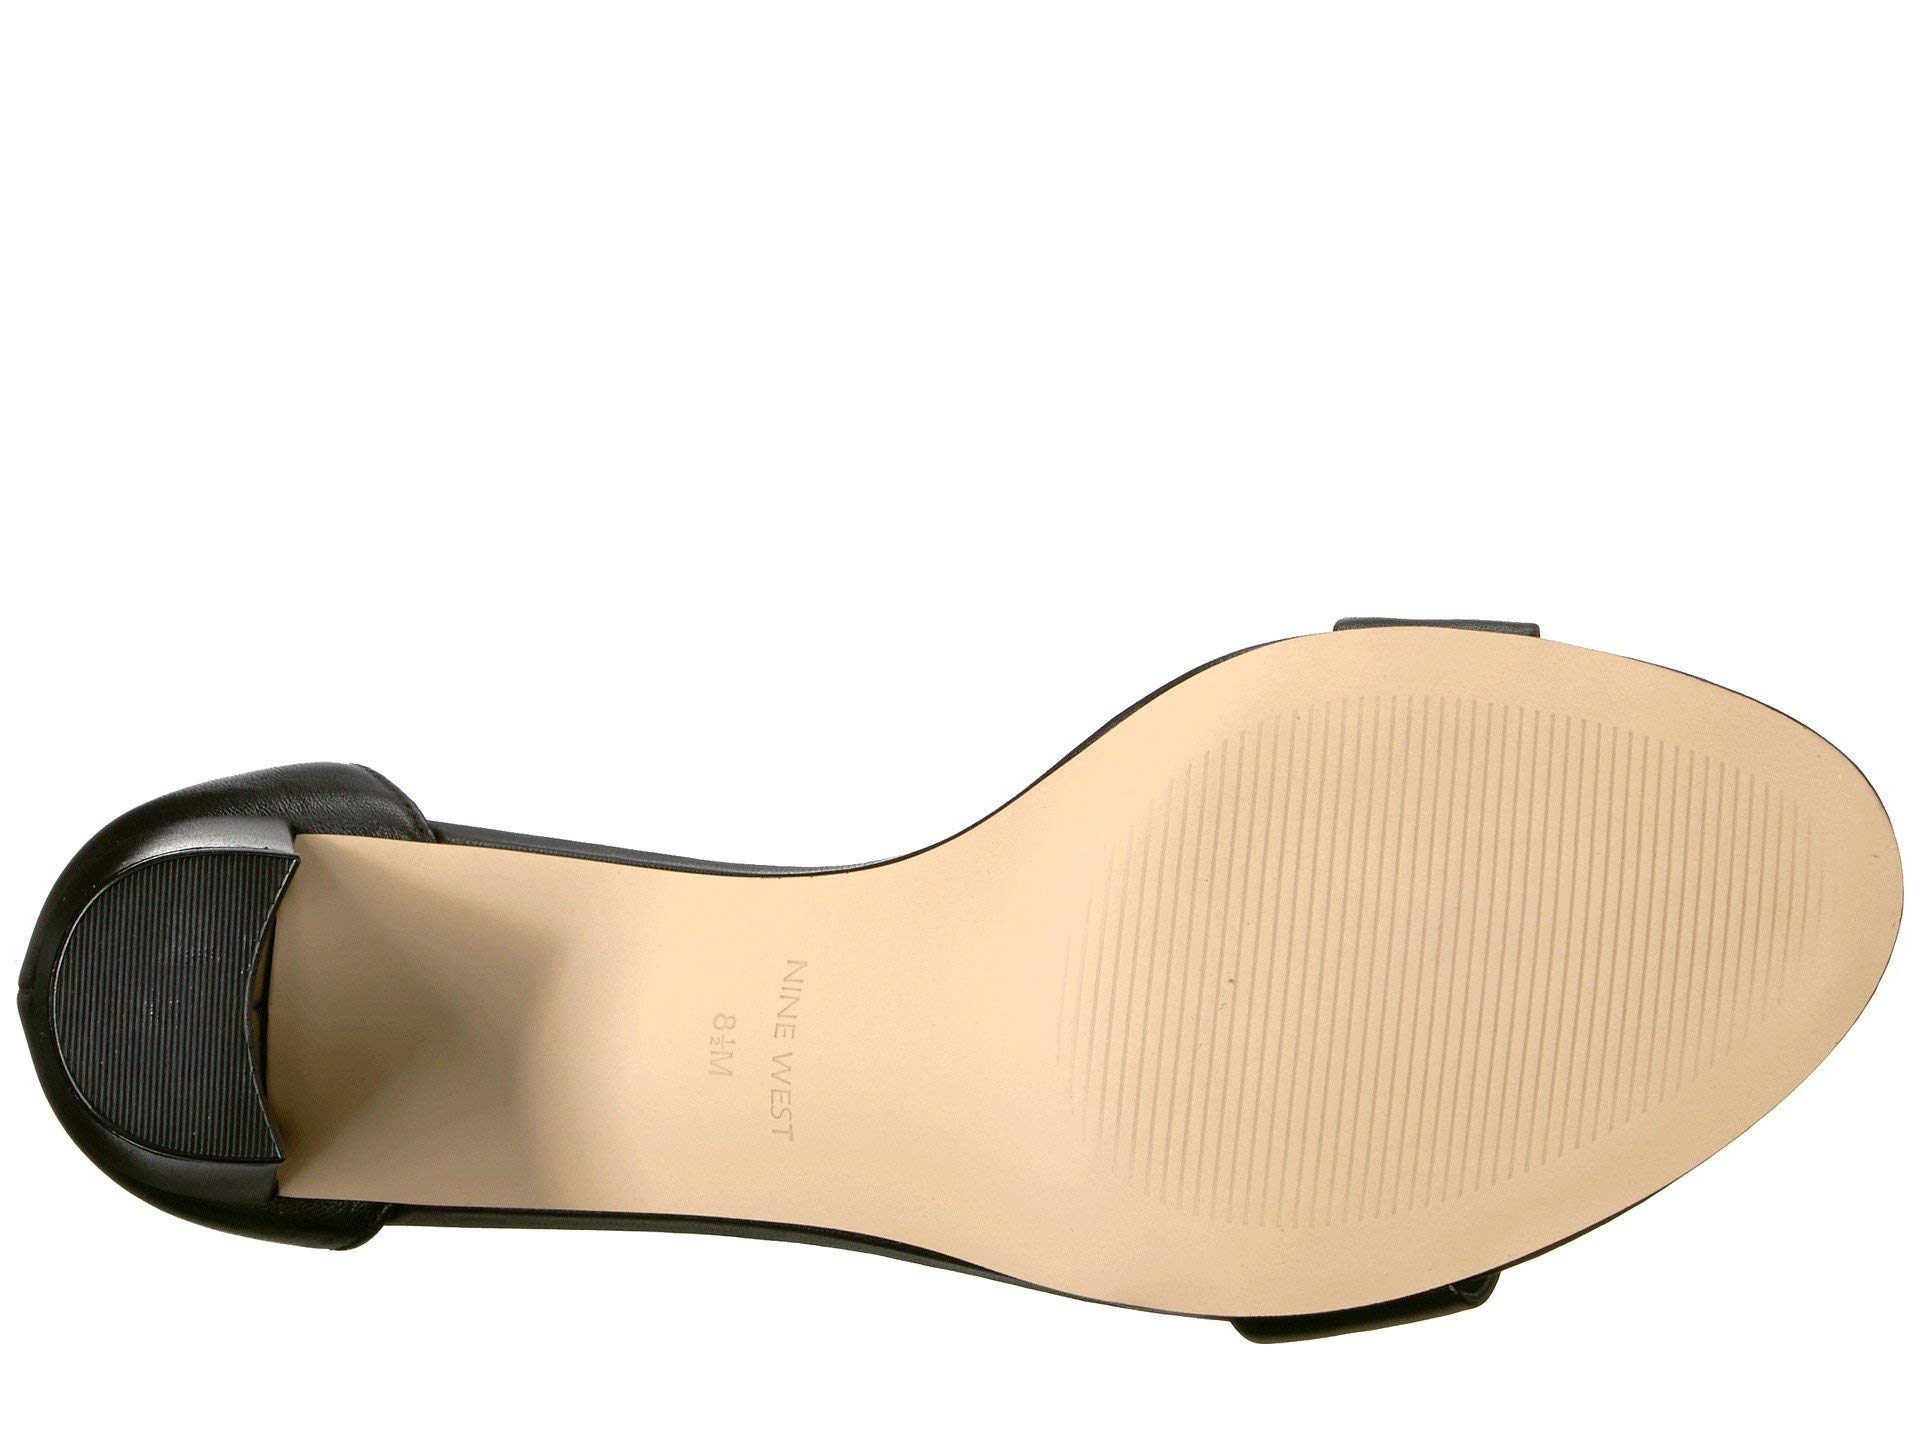line: (1253, 723, 1695, 1124)
